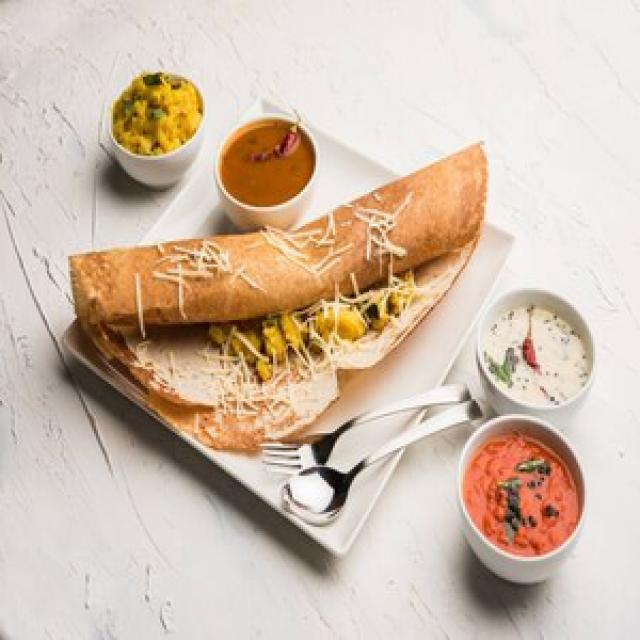dosa: (56, 126, 513, 458)
